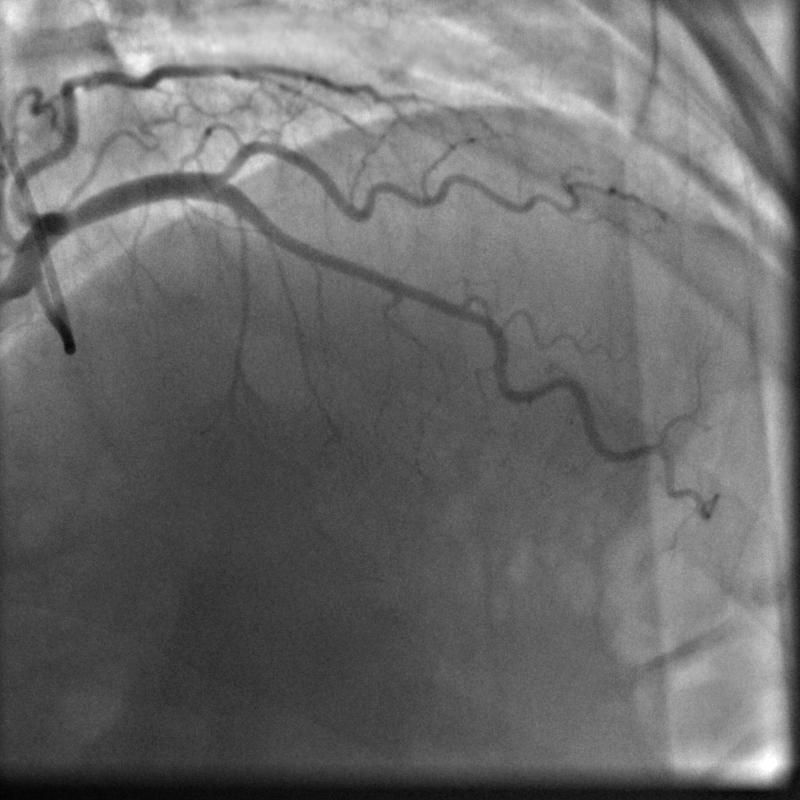Stenosis: (422, 290, 492, 333)
